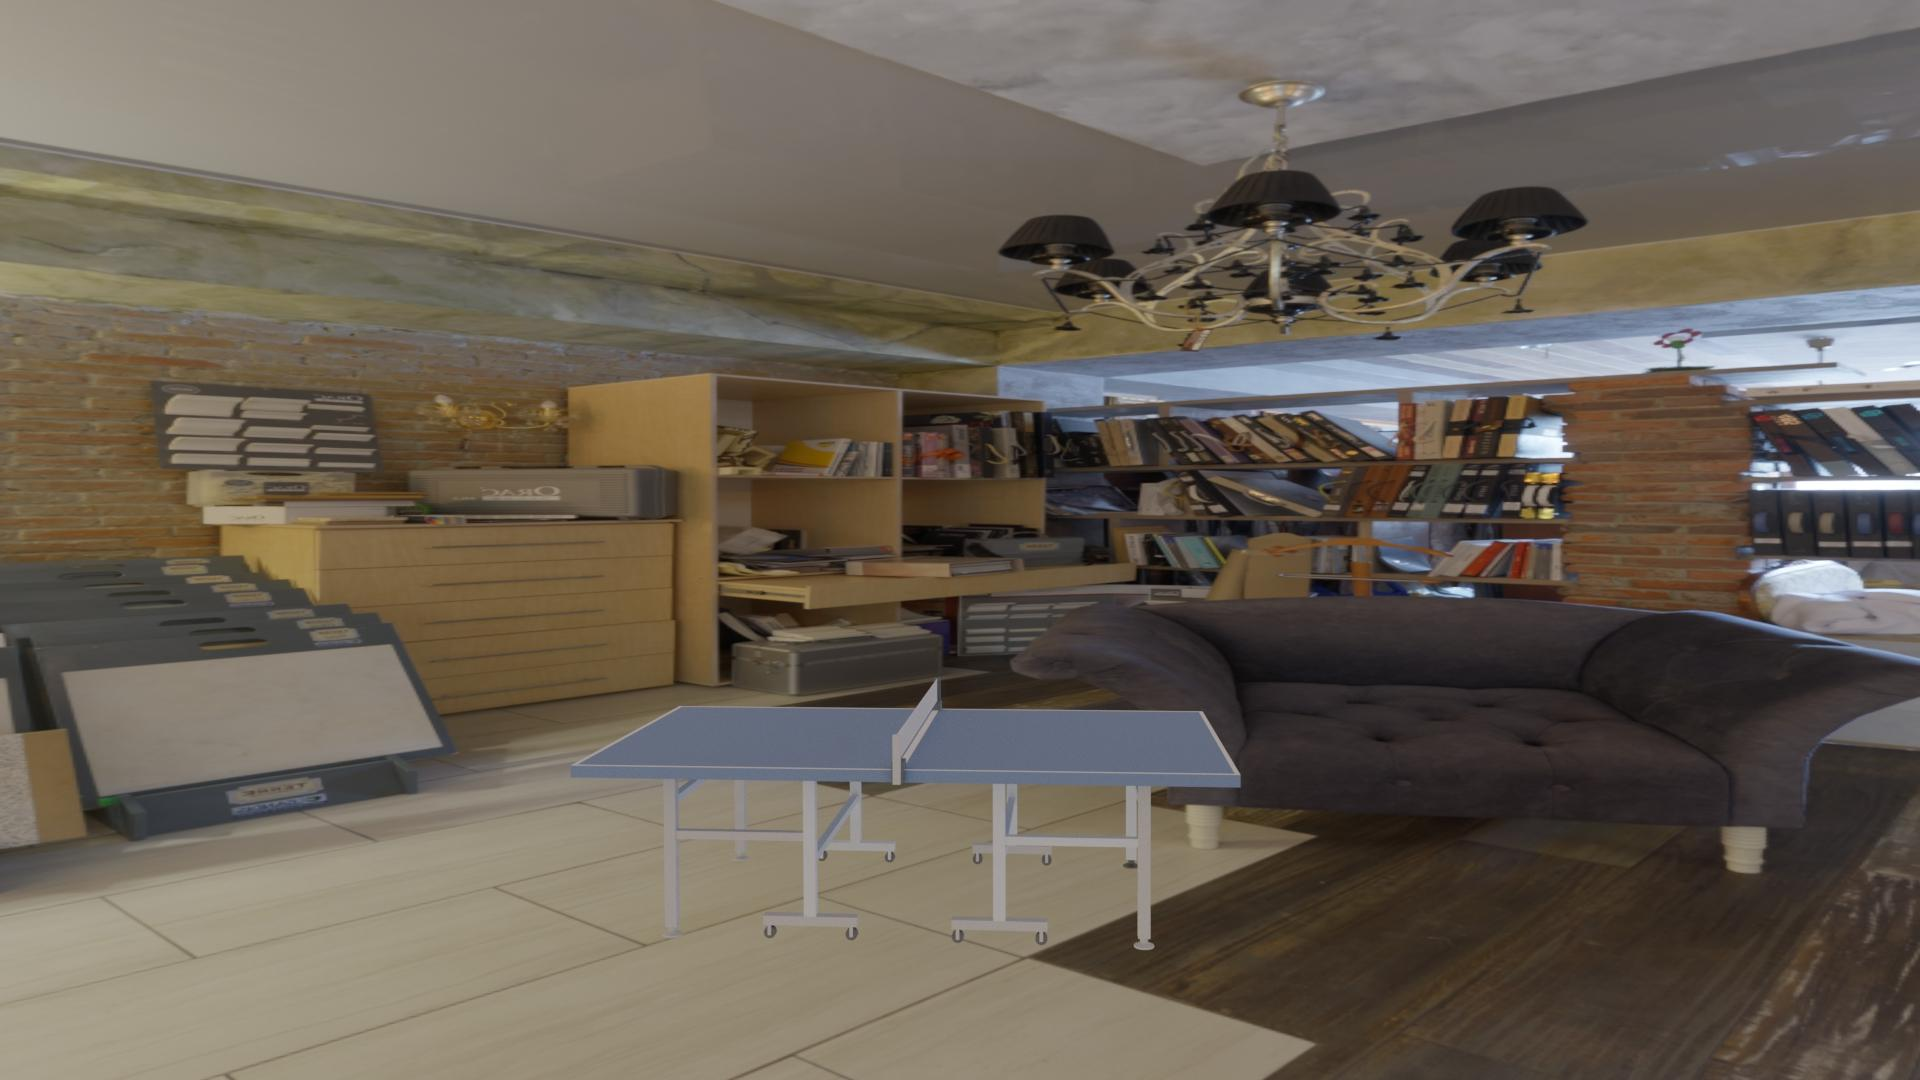table: (578, 707, 1234, 774)
